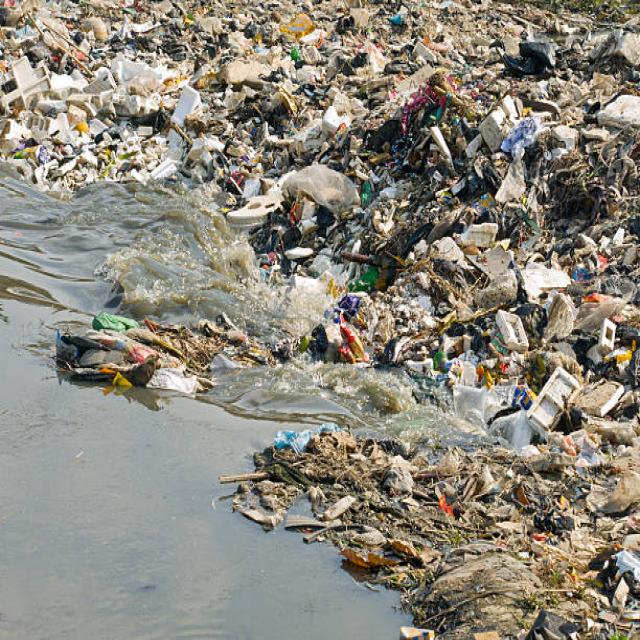trash: (38, 10, 618, 541)
